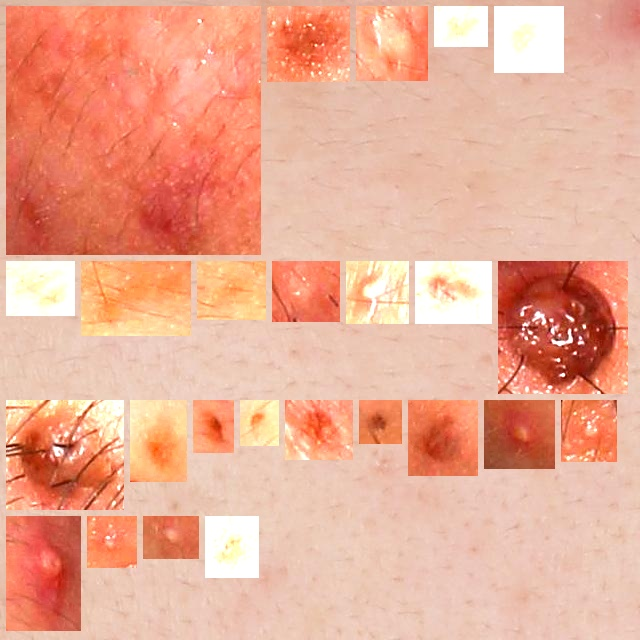hypertrophic_scar: (14, 14, 253, 247), (364, 14, 420, 73), (280, 269, 332, 314)
melasma: (89, 269, 183, 328), (502, 14, 556, 65), (205, 269, 258, 312), (14, 269, 67, 308), (442, 14, 480, 39)
nevus: (506, 269, 620, 386), (14, 408, 116, 502), (275, 14, 342, 74), (416, 408, 470, 468), (423, 269, 484, 316), (138, 408, 179, 474), (293, 408, 345, 452), (213, 524, 251, 570), (201, 408, 226, 445), (367, 408, 394, 436), (248, 408, 271, 438)
pustule: (14, 524, 73, 623), (492, 408, 547, 461), (354, 269, 401, 316), (569, 408, 609, 454), (95, 524, 129, 560), (151, 524, 191, 551)
